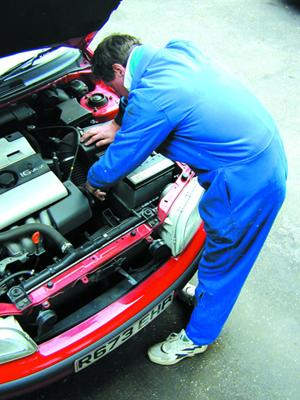person: (80, 33, 288, 363)
